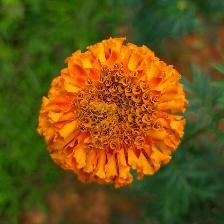marigold: (38, 37, 188, 192)
